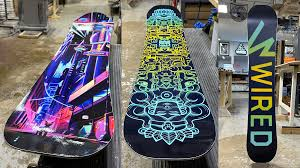snowboard: (3, 9, 116, 159), (123, 5, 217, 161), (245, 3, 280, 163)
